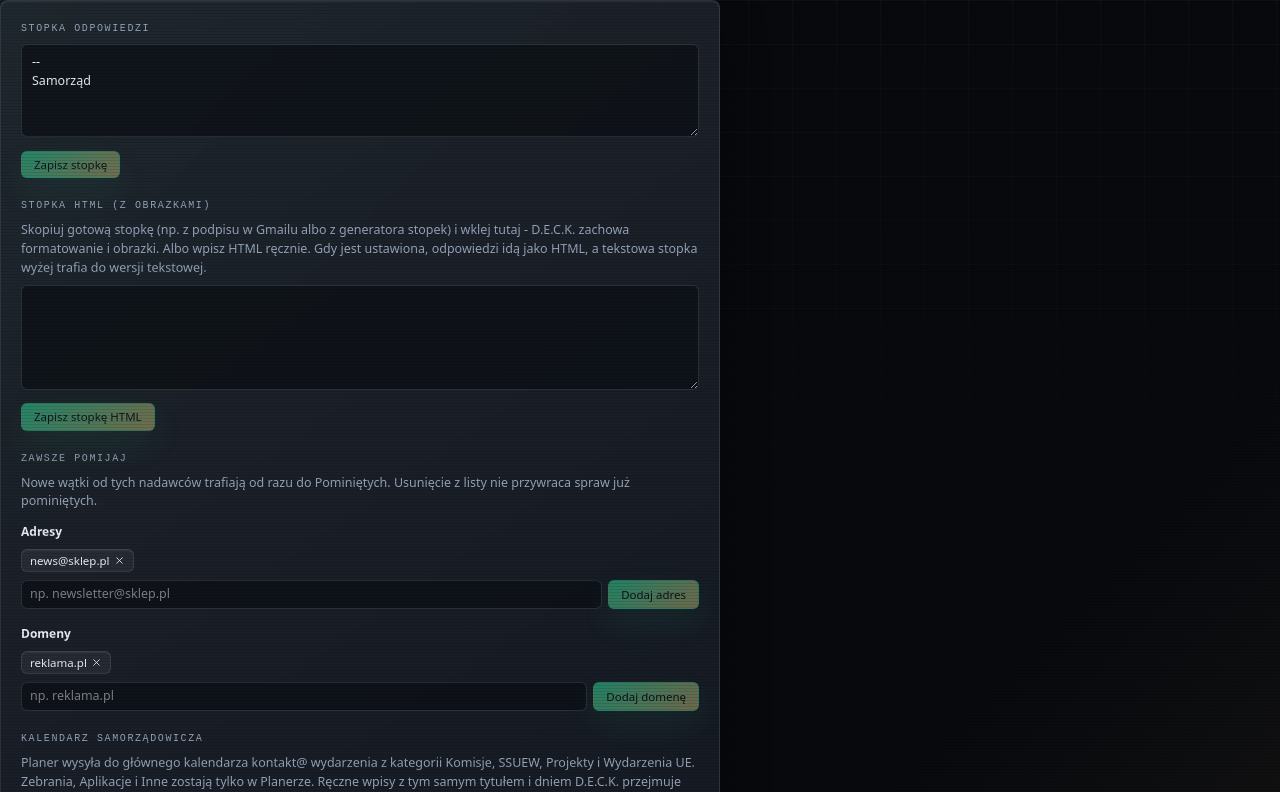
Scenario: UstawieniaSkrzynki › stopka: zapis po zmianie
Expected: the button "Zapisz stopkę" is disabled, left=21, top=151, right=120, bottom=178
Replace the text in the text box named "Stopka" with "Pozdrawiamy": [360, 90] box left=21, top=44, right=699, bottom=137
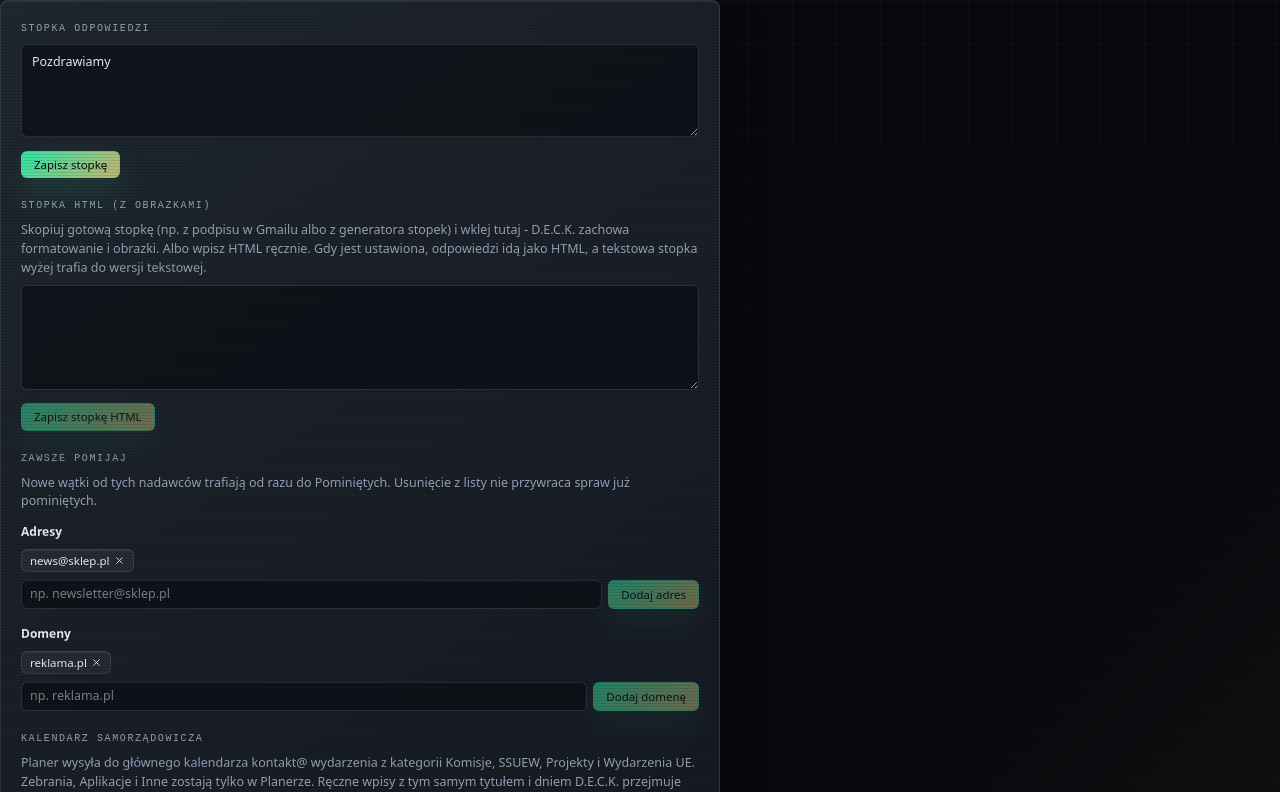
Click the button "Zapisz stopkę": [71, 164] box left=21, top=151, right=120, bottom=178
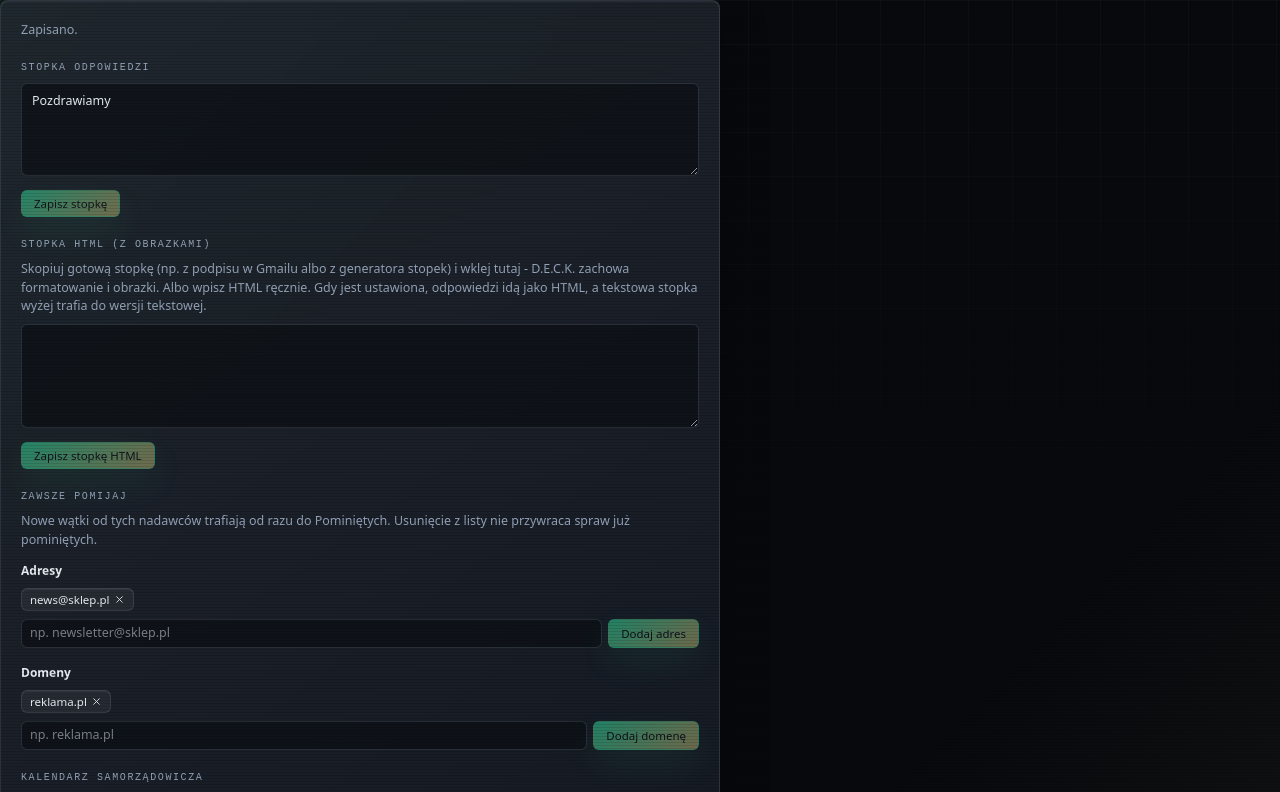
Expected: the message reads "Zapisano.", left=21, top=21, right=78, bottom=38
